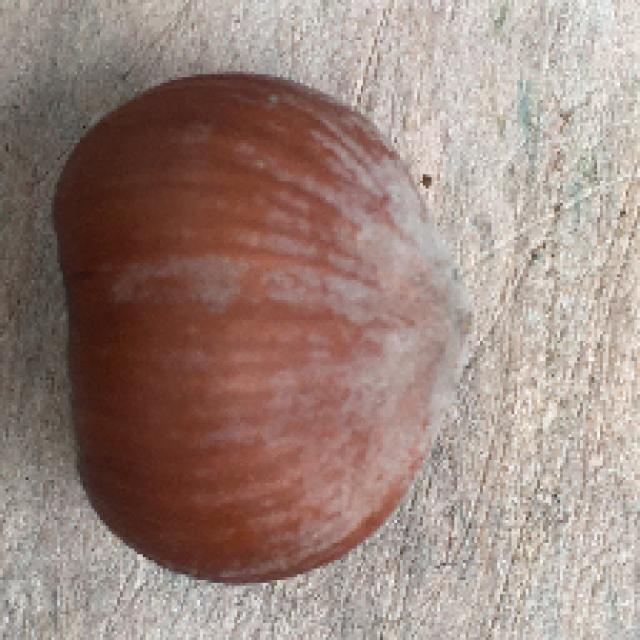qualityHazelnut: (38, 62, 482, 591)
